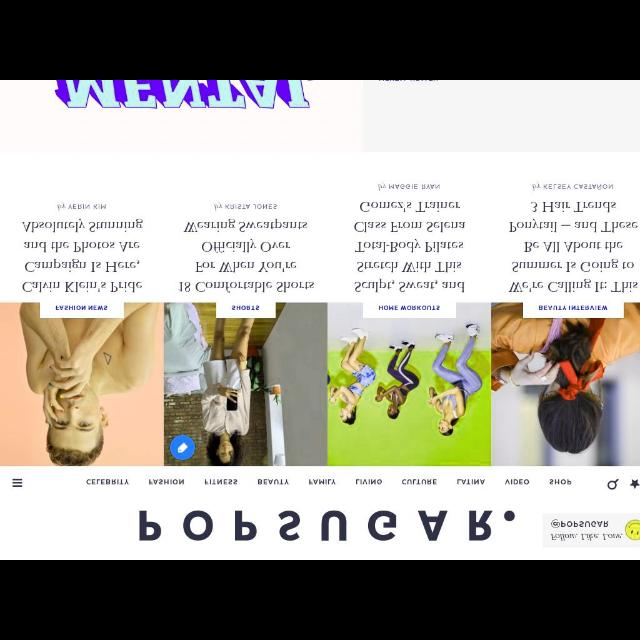icon: (606, 477, 620, 489), (12, 477, 24, 489), (630, 479, 638, 489)
image: (165, 303, 328, 467), (1, 302, 163, 466), (329, 302, 491, 466), (492, 304, 640, 466), (54, 82, 312, 108)
multitab: (1, 466, 639, 494)
text: (137, 506, 515, 540), (509, 196, 639, 294), (354, 200, 466, 292), (180, 219, 314, 293), (22, 216, 144, 294), (530, 180, 614, 192), (378, 180, 440, 192), (552, 532, 622, 542), (57, 200, 106, 212), (213, 202, 277, 210), (551, 520, 611, 528), (85, 478, 128, 486), (402, 478, 438, 487), (205, 478, 238, 487), (148, 478, 186, 484), (309, 477, 335, 485), (256, 478, 290, 484), (353, 478, 382, 484), (458, 478, 487, 484), (504, 479, 530, 485), (548, 478, 572, 484)
